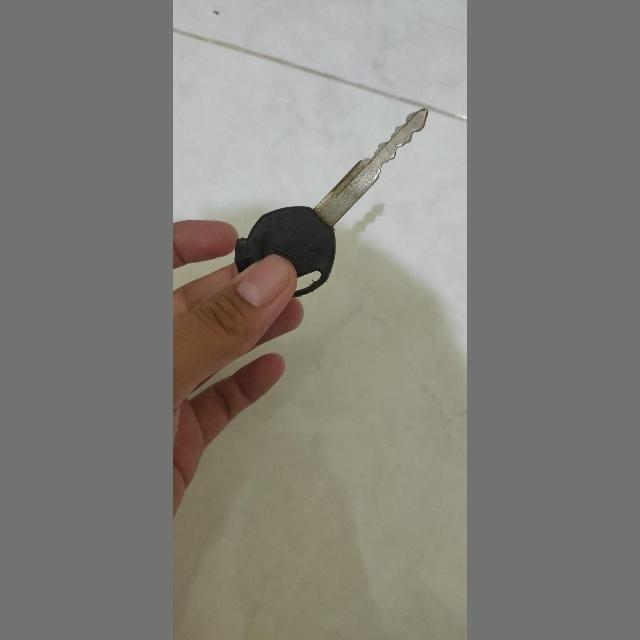Keys: (228, 94, 432, 306)
